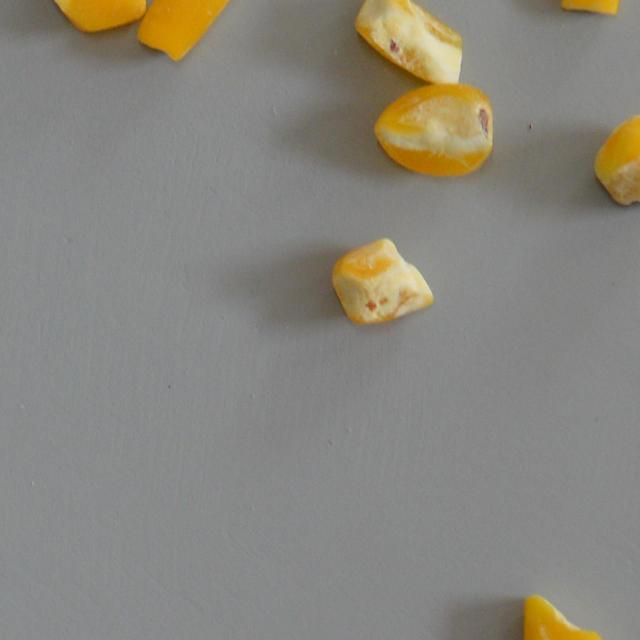dañado: (372, 82, 498, 182), (352, 0, 464, 89), (328, 236, 436, 327)
estandar: (148, 0, 230, 66), (552, 0, 632, 22)
pelicula: (590, 116, 640, 212), (520, 592, 620, 640), (39, 0, 148, 32)
